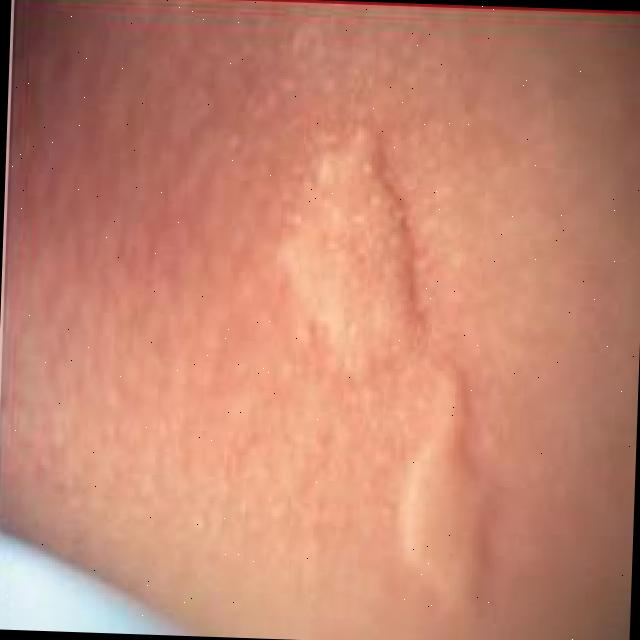sinek: (212, 101, 447, 381), (396, 358, 501, 608)
